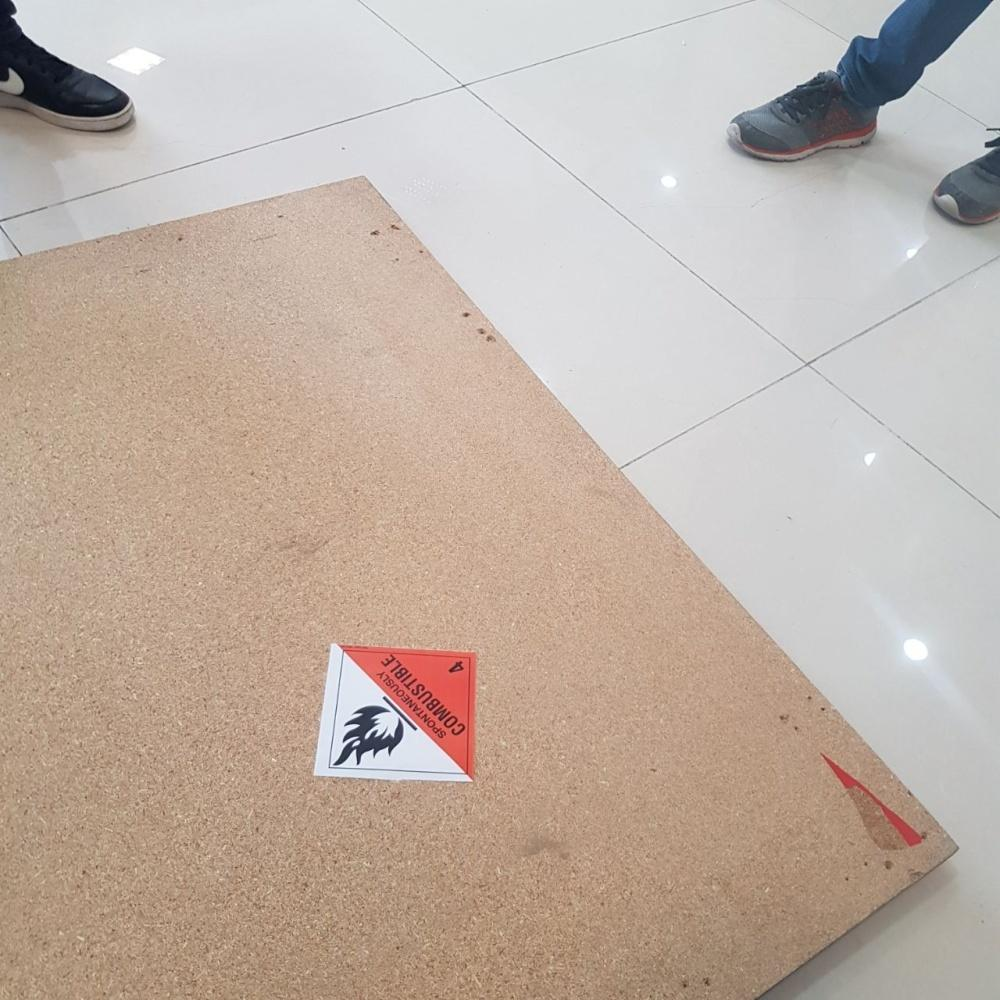spontaneously-combustible: (316, 645, 477, 783)
